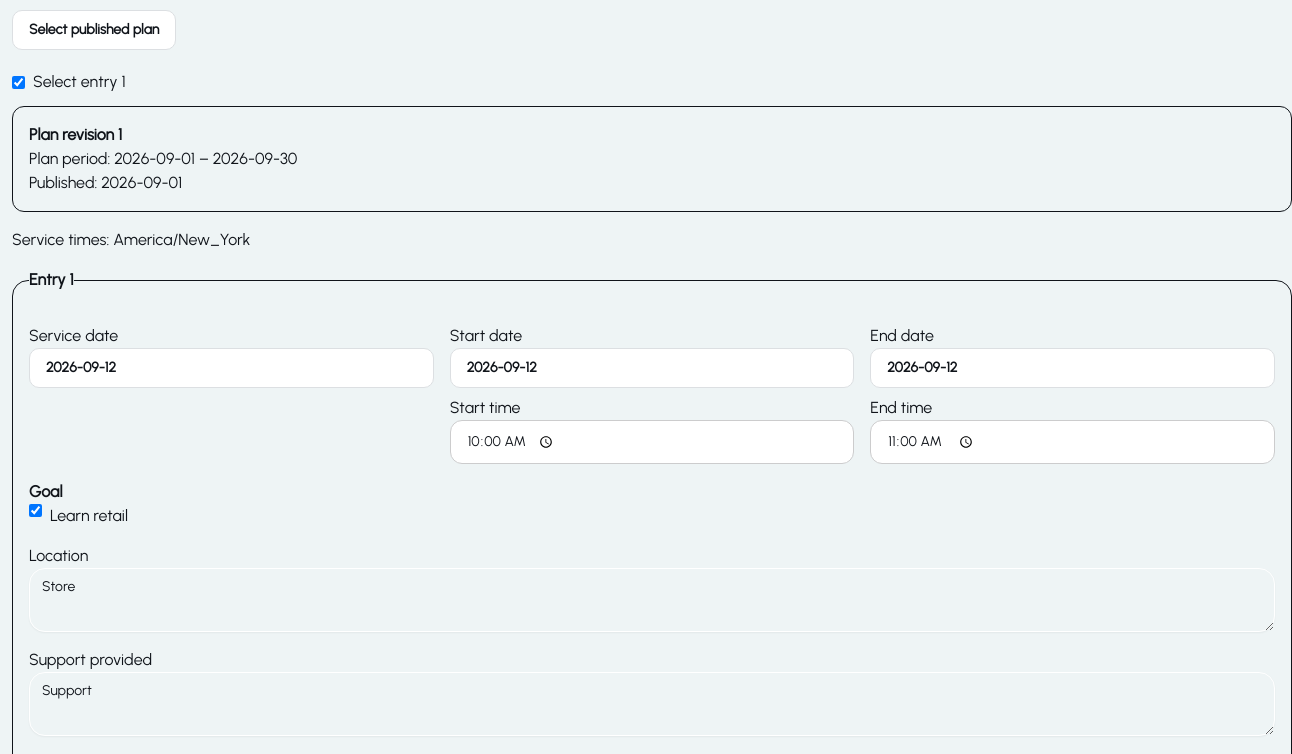
Test: retries an uncertain row save with the same UUID, payload and expected version
Later steps or results of the test are not shown.
Replace the text in the text box labelled "Support provided" with "Exact retry text": (652, 704) [29,672,1275,736]
(page scrolled)
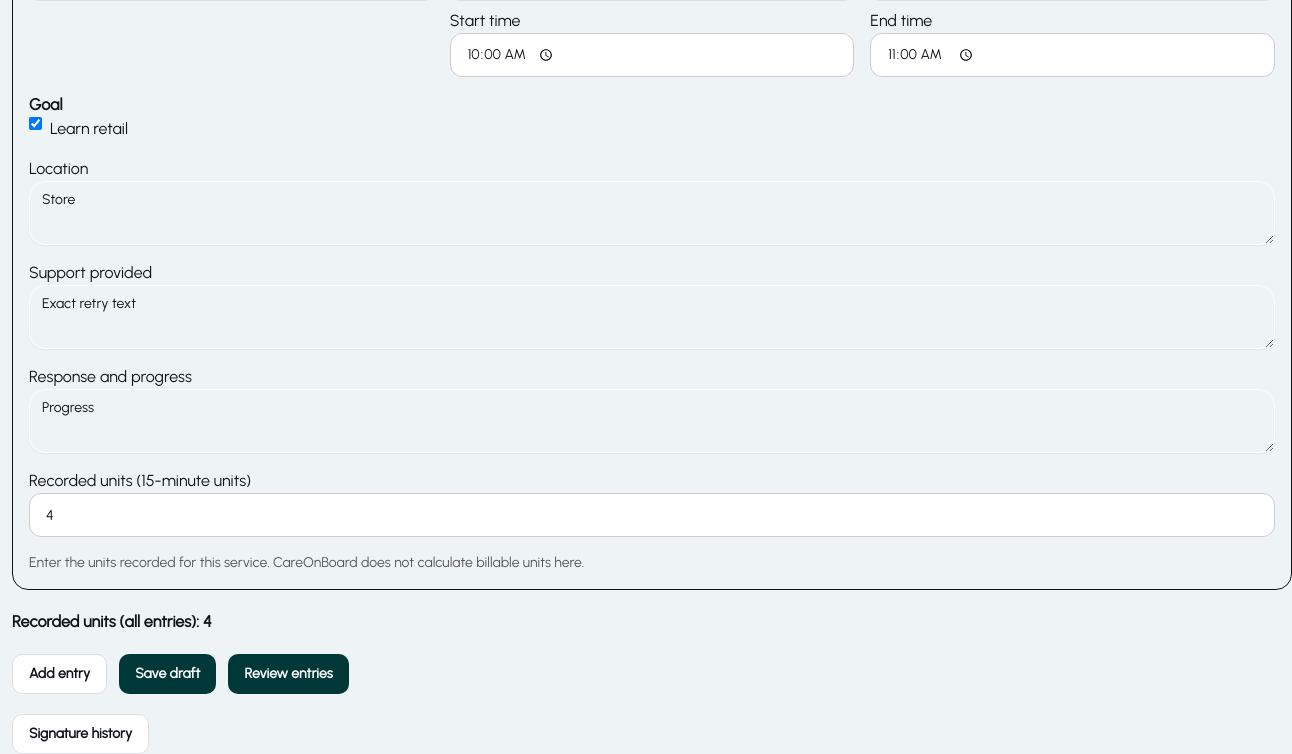
Click the button "Save draft": click(168, 674) [119,654,216,694]
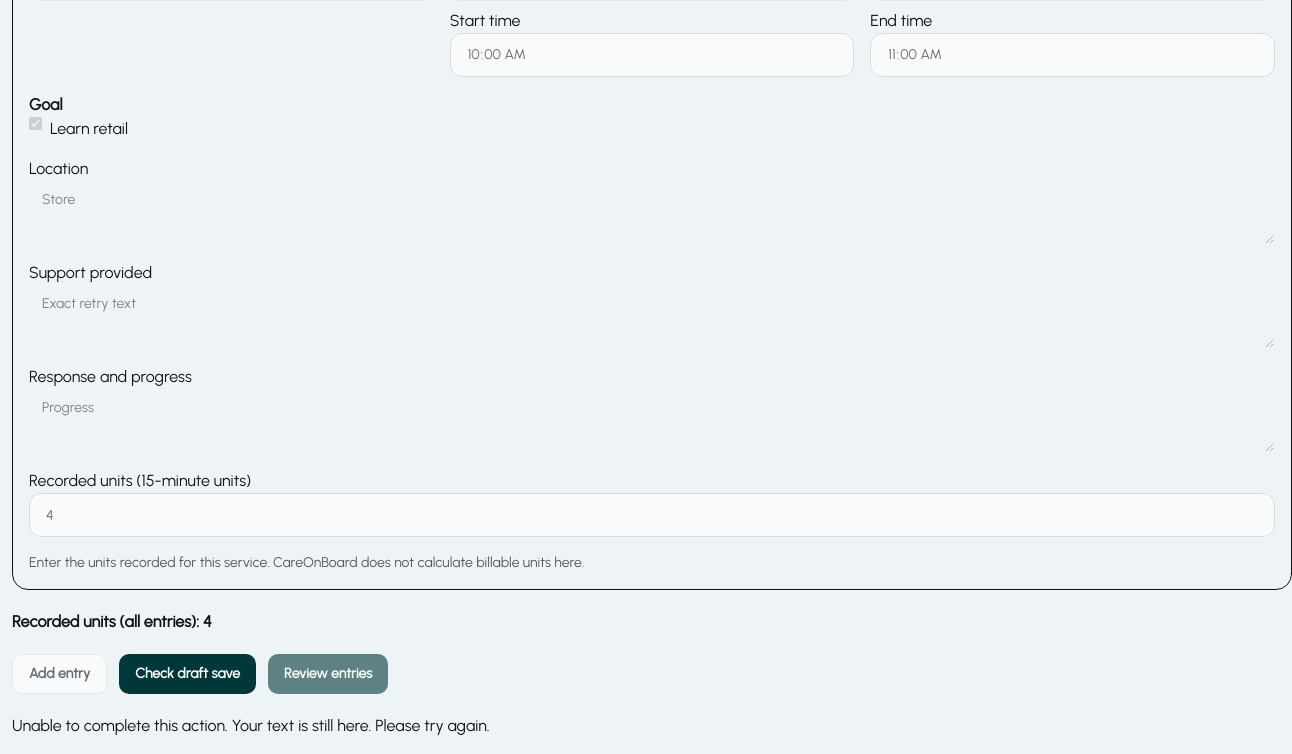
Check: the text box labelled "Support provided" is disabled, box [29,285,1275,349]
Check: the button "Check draft save" is shown, box [119,654,256,694]
